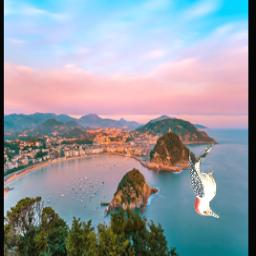Woodpecker: (188, 142, 222, 218)
